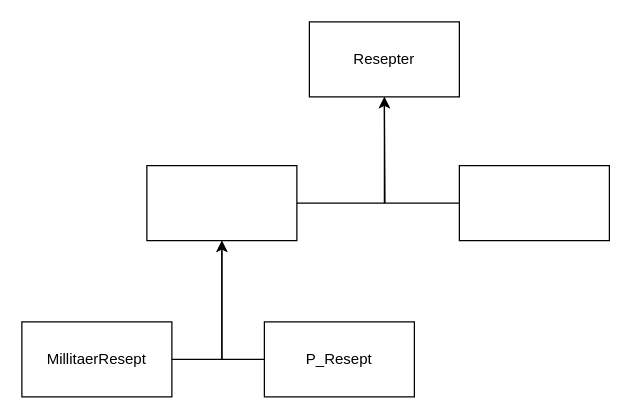
Image size: 631x419. Some labels were removed from this diagram. Each missing label, with the centre of its shape:
BlaaResept: [533,202]
HvitResept: [221,202]
